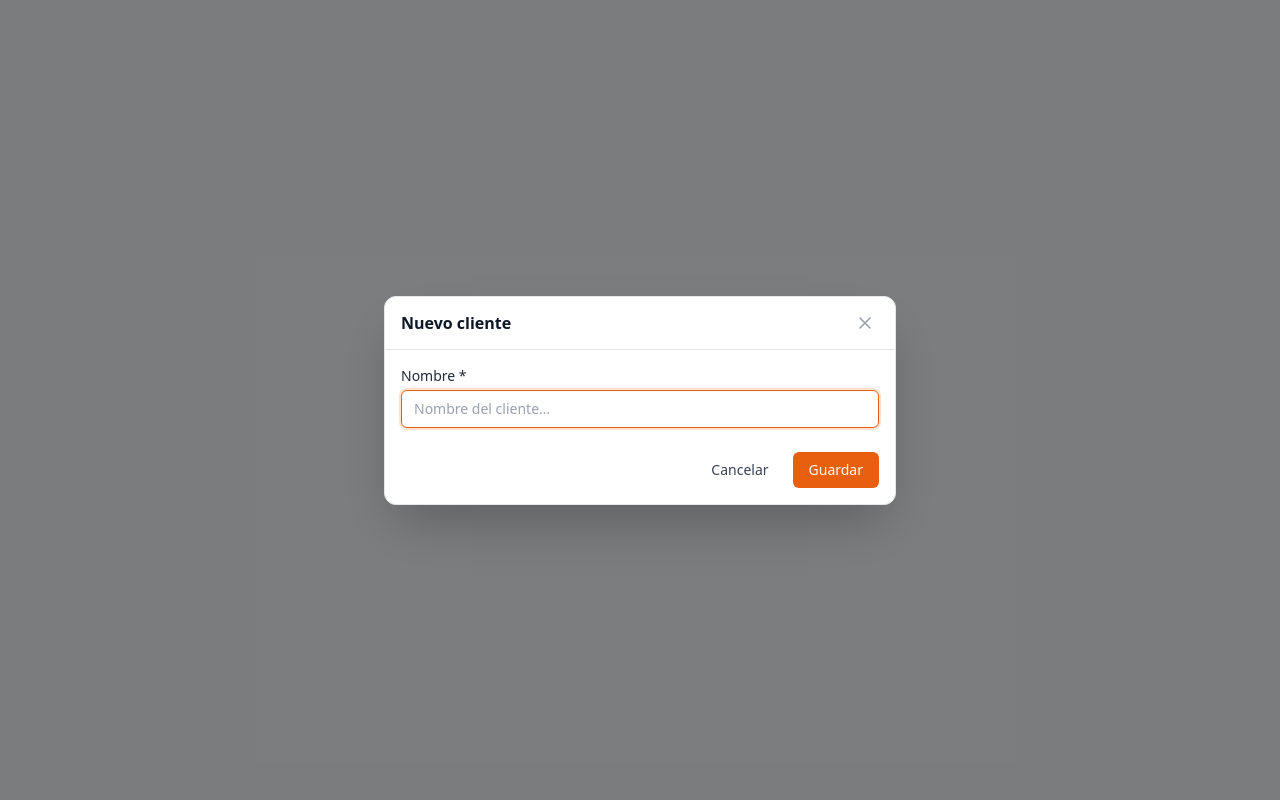
CustomerFormModal › si el servidor falla muestra el error y NO cierra el modal
The image size is (1280, 800).
In the field labelled "Nombre *": x=640, y=408 [401,390,879,428], type "Ana García"
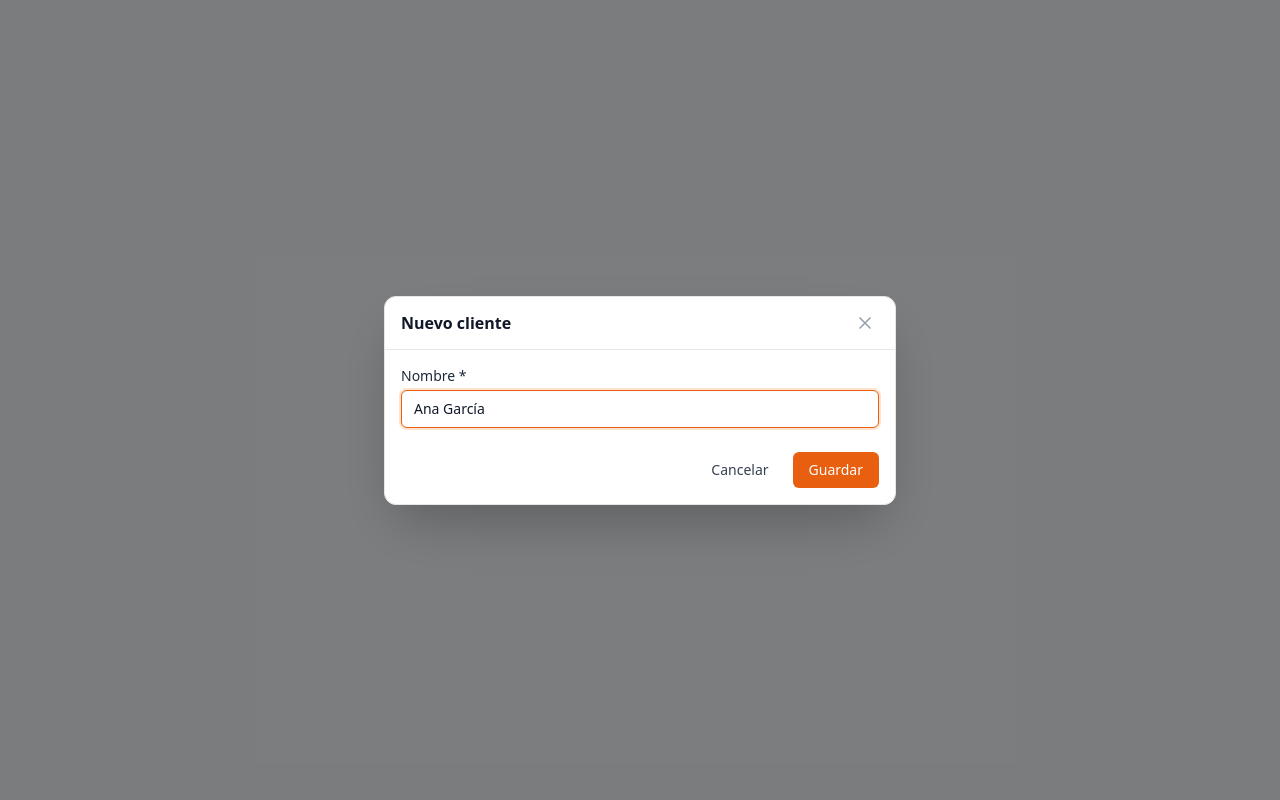
Click the button "Guardar": x=836, y=470 [792,452,879,488]
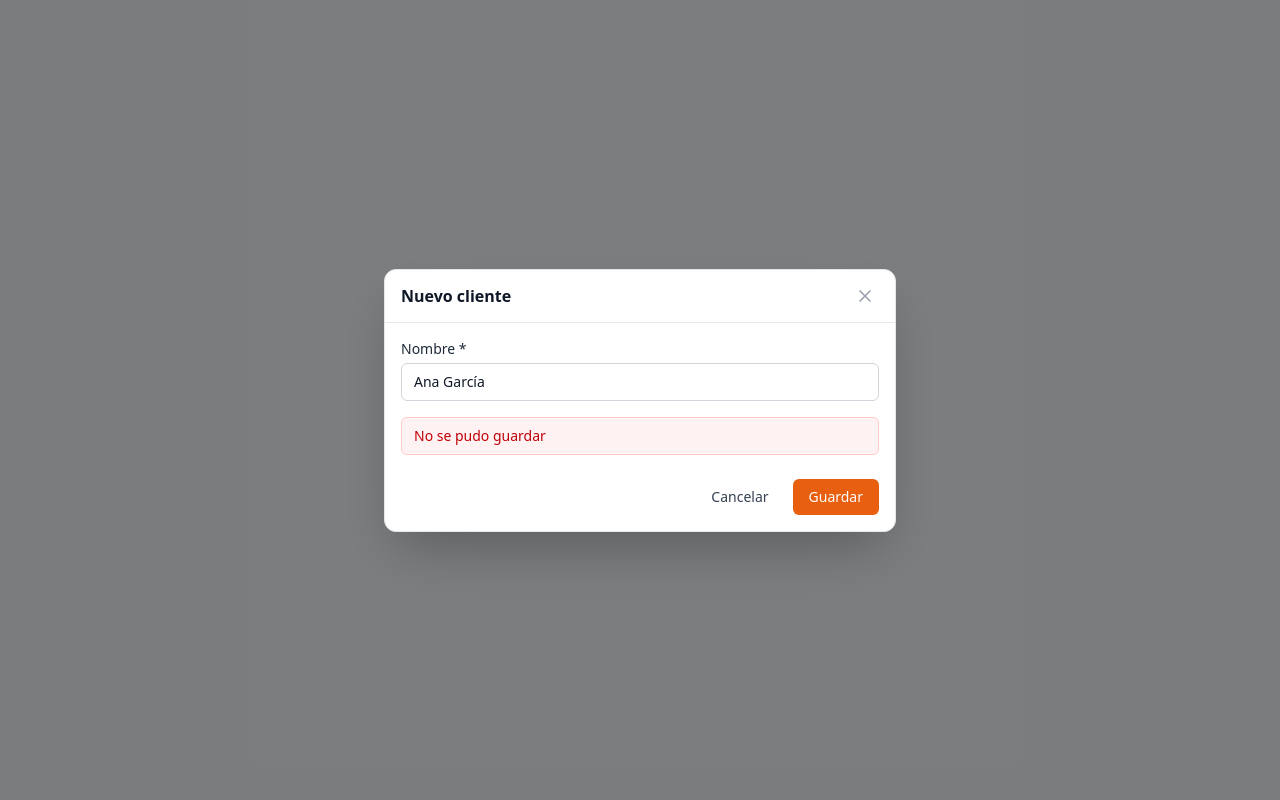
expect the message reads "No se pudo guardar": met, box [414,426,546,444]
